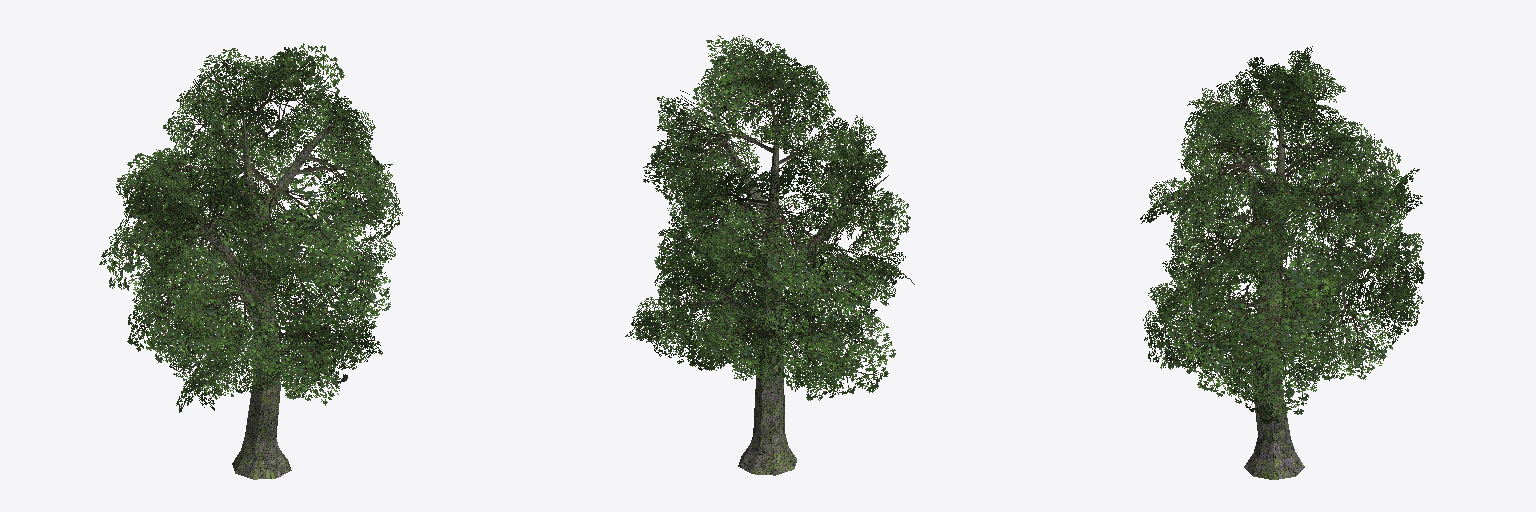
3 views of the same model, side by side, from view 1: azimuth 30°, elevation 25°; view 2: azimuth 150°, elevation 25°; view 3: azimuth 270°, elevation 25° (orthographic).
Parts seen in each view (by area): view 1: tree3:Sycamore; view 2: tree3:Sycamore; view 3: tree3:Sycamore.
Boxes of the visible parts, x1=… form: tree3:Sycamore: x1=99, y1=43, x2=402, y2=479; tree3:Sycamore: x1=625, y1=35, x2=914, y2=475; tree3:Sycamore: x1=1140, y1=46, x2=1424, y2=479.
Size of the model in its own units: 14.23 by 20.62 by 13.42.
2 materials, 2 textured.